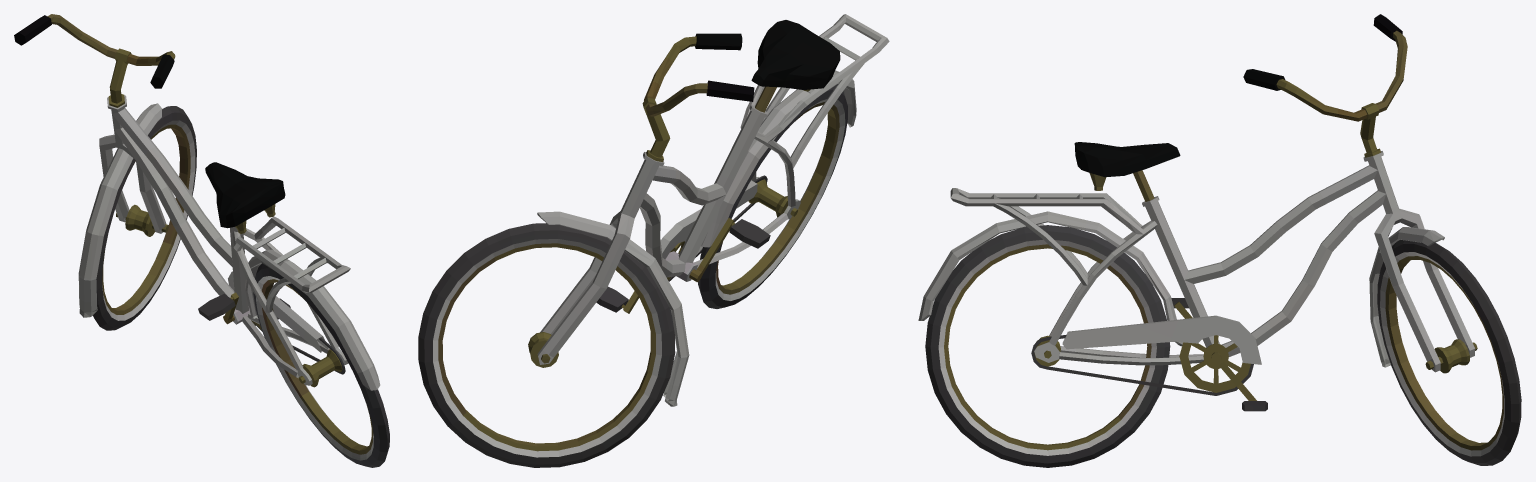
Rendered from bicycle1.fbx.
3 renders of one model, left to right at view 1: azimuth 30°, elevation 25°; view 2: azimuth 150°, elevation 25°; view 3: azimuth 270°, elevation 25°, orthographic. The views are drawn at different scales.
Visible parts, largest first — view 1: SM_Bicycle_01b.mo; view 2: SM_Bicycle_01b.mo; view 3: SM_Bicycle_01b.mo.
Part boxes in pixels (<box>): SM_Bicycle_01b.mo: <box>14,14,389,467</box>; SM_Bicycle_01b.mo: <box>418,14,889,467</box>; SM_Bicycle_01b.mo: <box>918,14,1521,467</box>.
Bounding box in the file's own units: 84.55 × 119 × 175.
